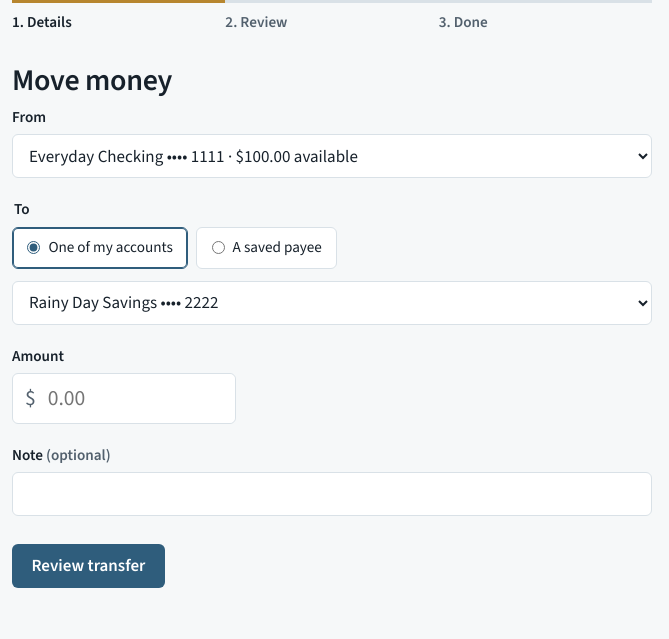
Scenario: transfer flow › shows validation errors and stays on the details step
Type "200" into the field labelled "Amount". click: coordinates (135, 399)
box: [36, 374, 235, 423]
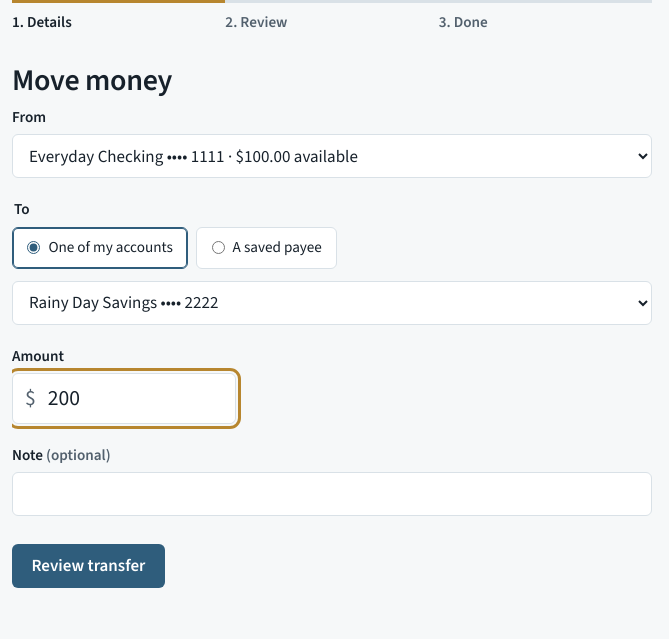
Click the button "Review transfer". click: coordinates (88, 566)
box: [12, 544, 165, 588]
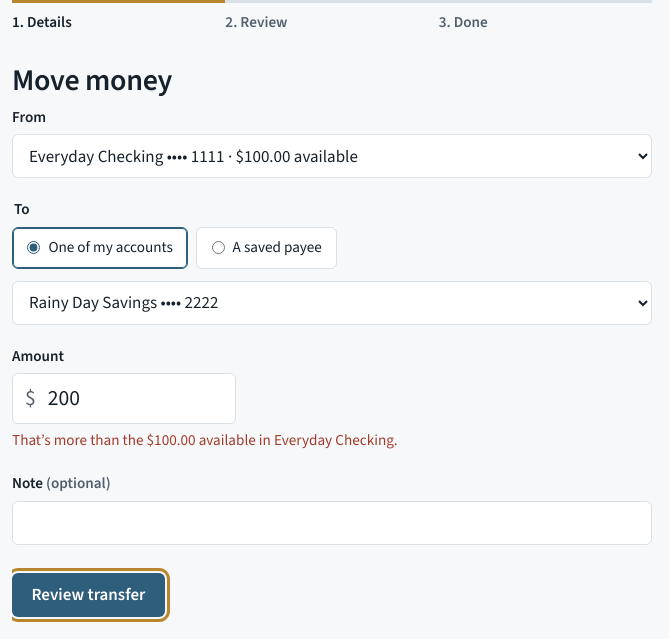
expect the text "That’s more than the $100.00 available in Everyday Checking." is shown: met, box [12, 430, 398, 450]
